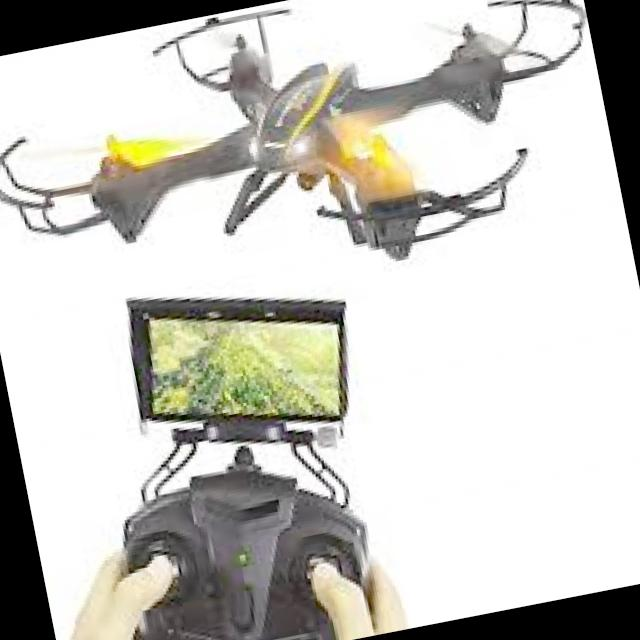drone: (0, 0, 627, 348)
